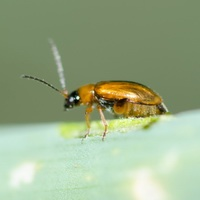insect: (22, 39, 167, 139)
